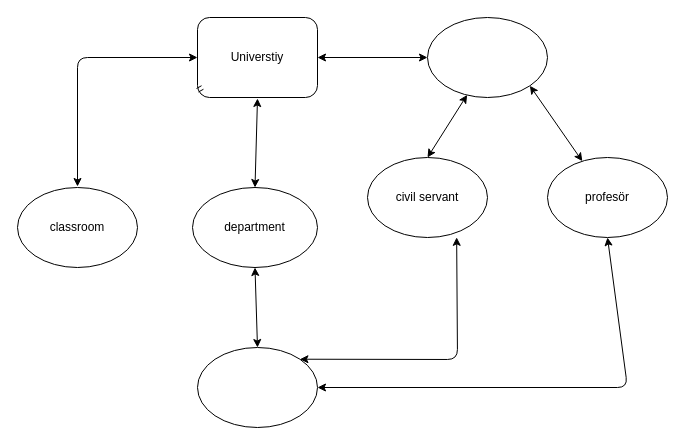
Image size: 685x445. Some labels were removed from this diagram. Each missing label, with the centre of its shape:
"work office" belongs at pixel 257 387.
"worker" belongs at pixel 487 57.
